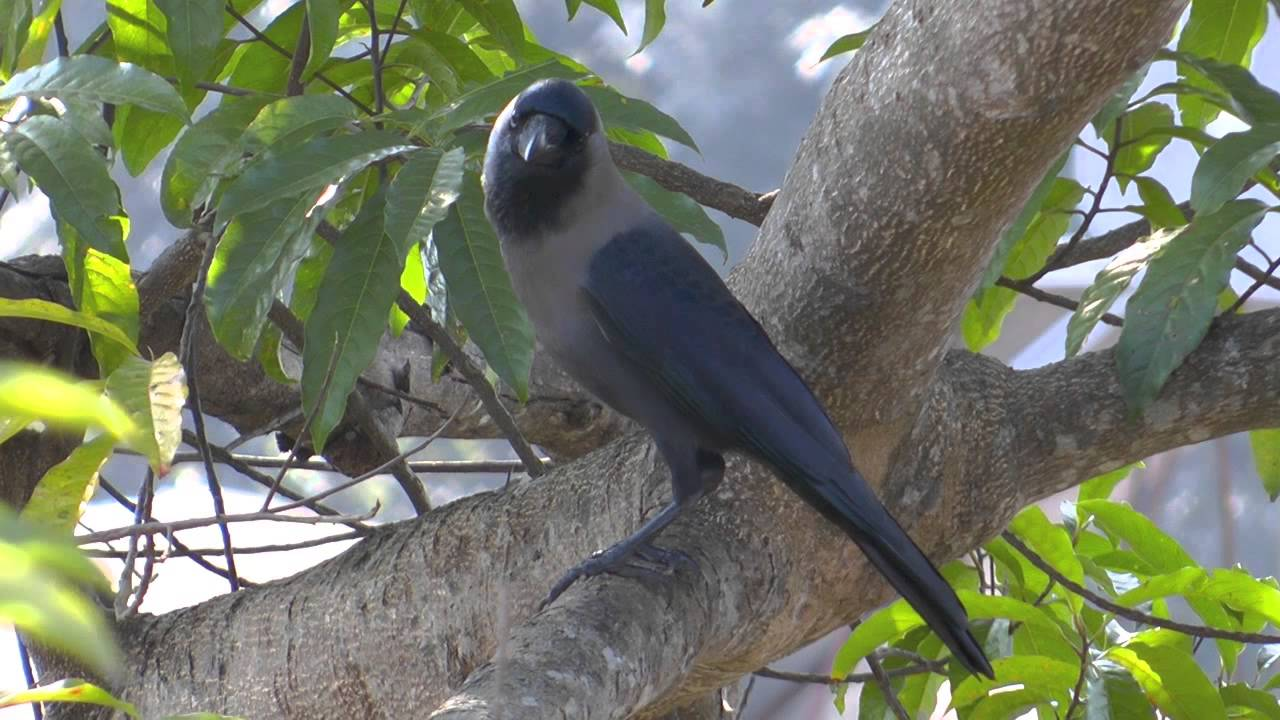bird: (469, 57, 1013, 690)
